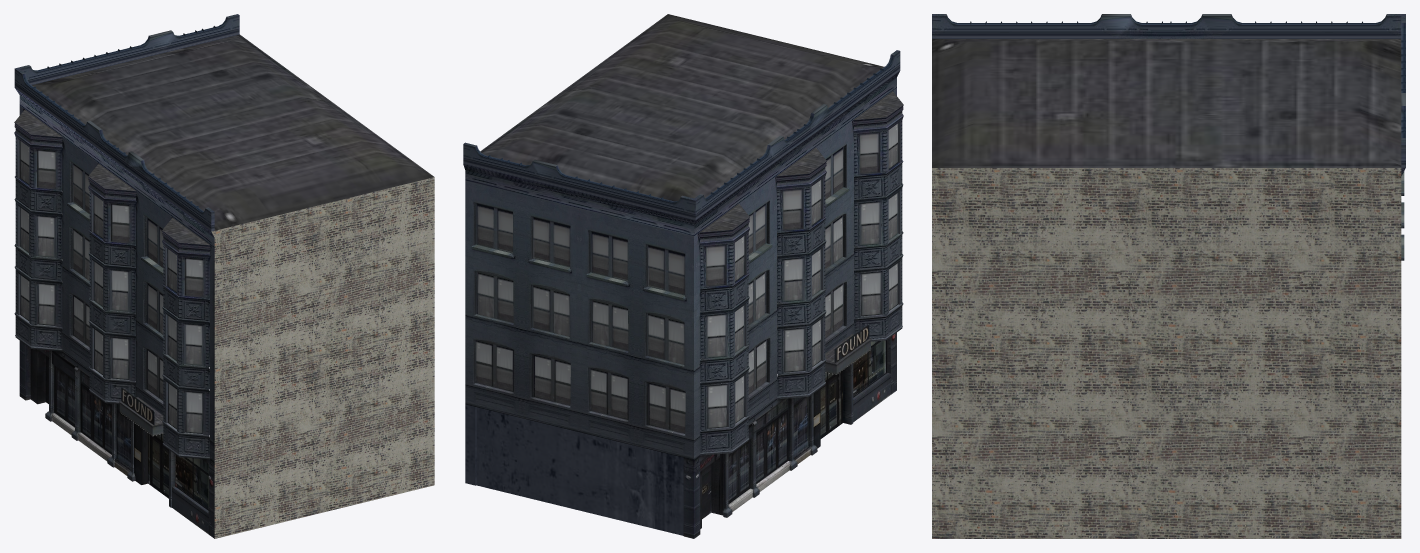
The model's file is building3bluep6.fbx.
3 views of the same model, side by side, from view 1: azimuth 30°, elevation 25°; view 2: azimuth 150°, elevation 25°; view 3: azimuth 270°, elevation 25° (orthographic). The views are drawn at different scales.
Visible parts, largest first — view 1: Bricks; view 2: Bricks; view 3: Bricks.
Part boxes in pixels (bbox=[...]): Bricks: bbox=[14, 14, 434, 538]; Bricks: bbox=[463, 14, 903, 538]; Bricks: bbox=[932, 14, 1405, 538].
Size of the model in its own units: 3438 by 4449 by 4850.
Materials: 3 (2 with a texture image).
